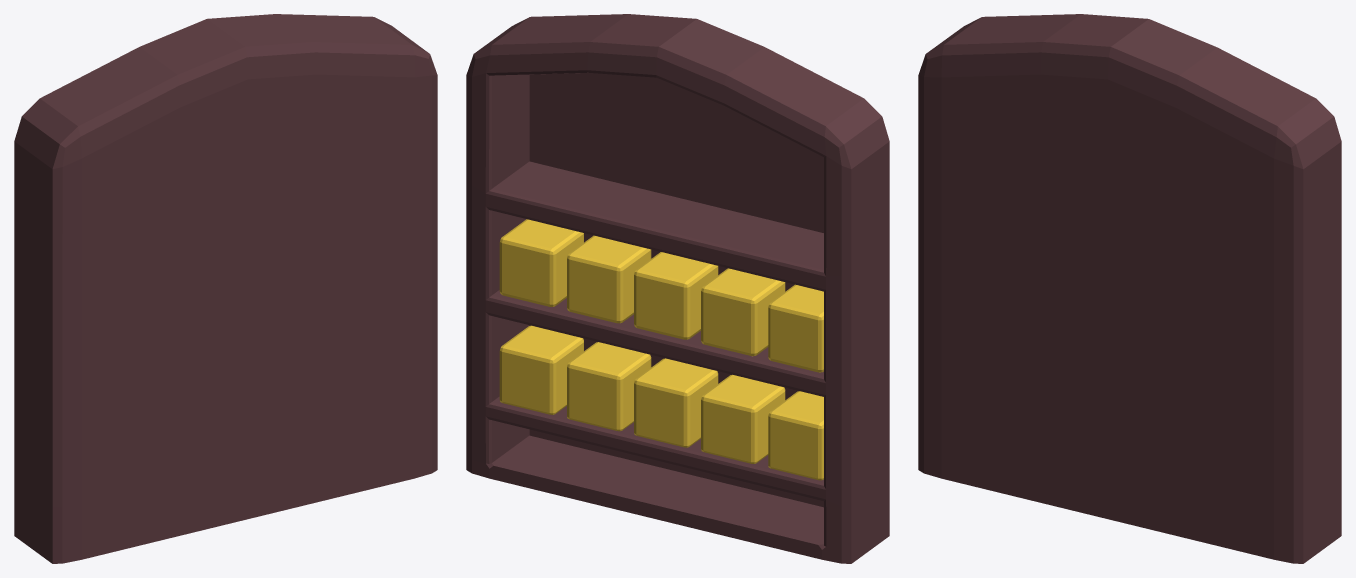
The model's file is Shelves.fbx.
3 views of the same model, side by side, from view 1: azimuth 30°, elevation 25°; view 2: azimuth 150°, elevation 25°; view 3: azimuth 330°, elevation 25° (orthographic).
Visible parts, largest first — view 1: Shelves; view 2: Shelves; view 3: Shelves.
Part boxes in pixels (x1,y1,x2,y2): Shelves: [14, 14, 437, 563]; Shelves: [466, 14, 889, 563]; Shelves: [918, 14, 1341, 563].
Size of the model in its own units: 877 by 1023 by 175.
